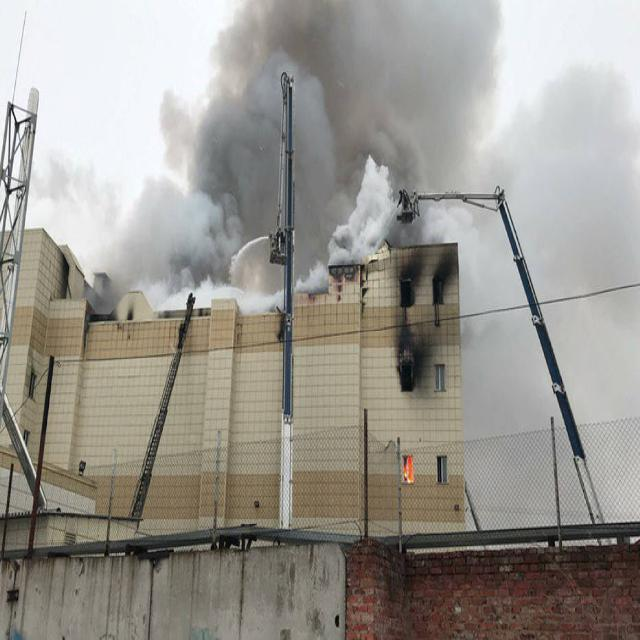Fire: (403, 456, 413, 482)
Smoke: (157, 0, 497, 188), (97, 186, 393, 309)
